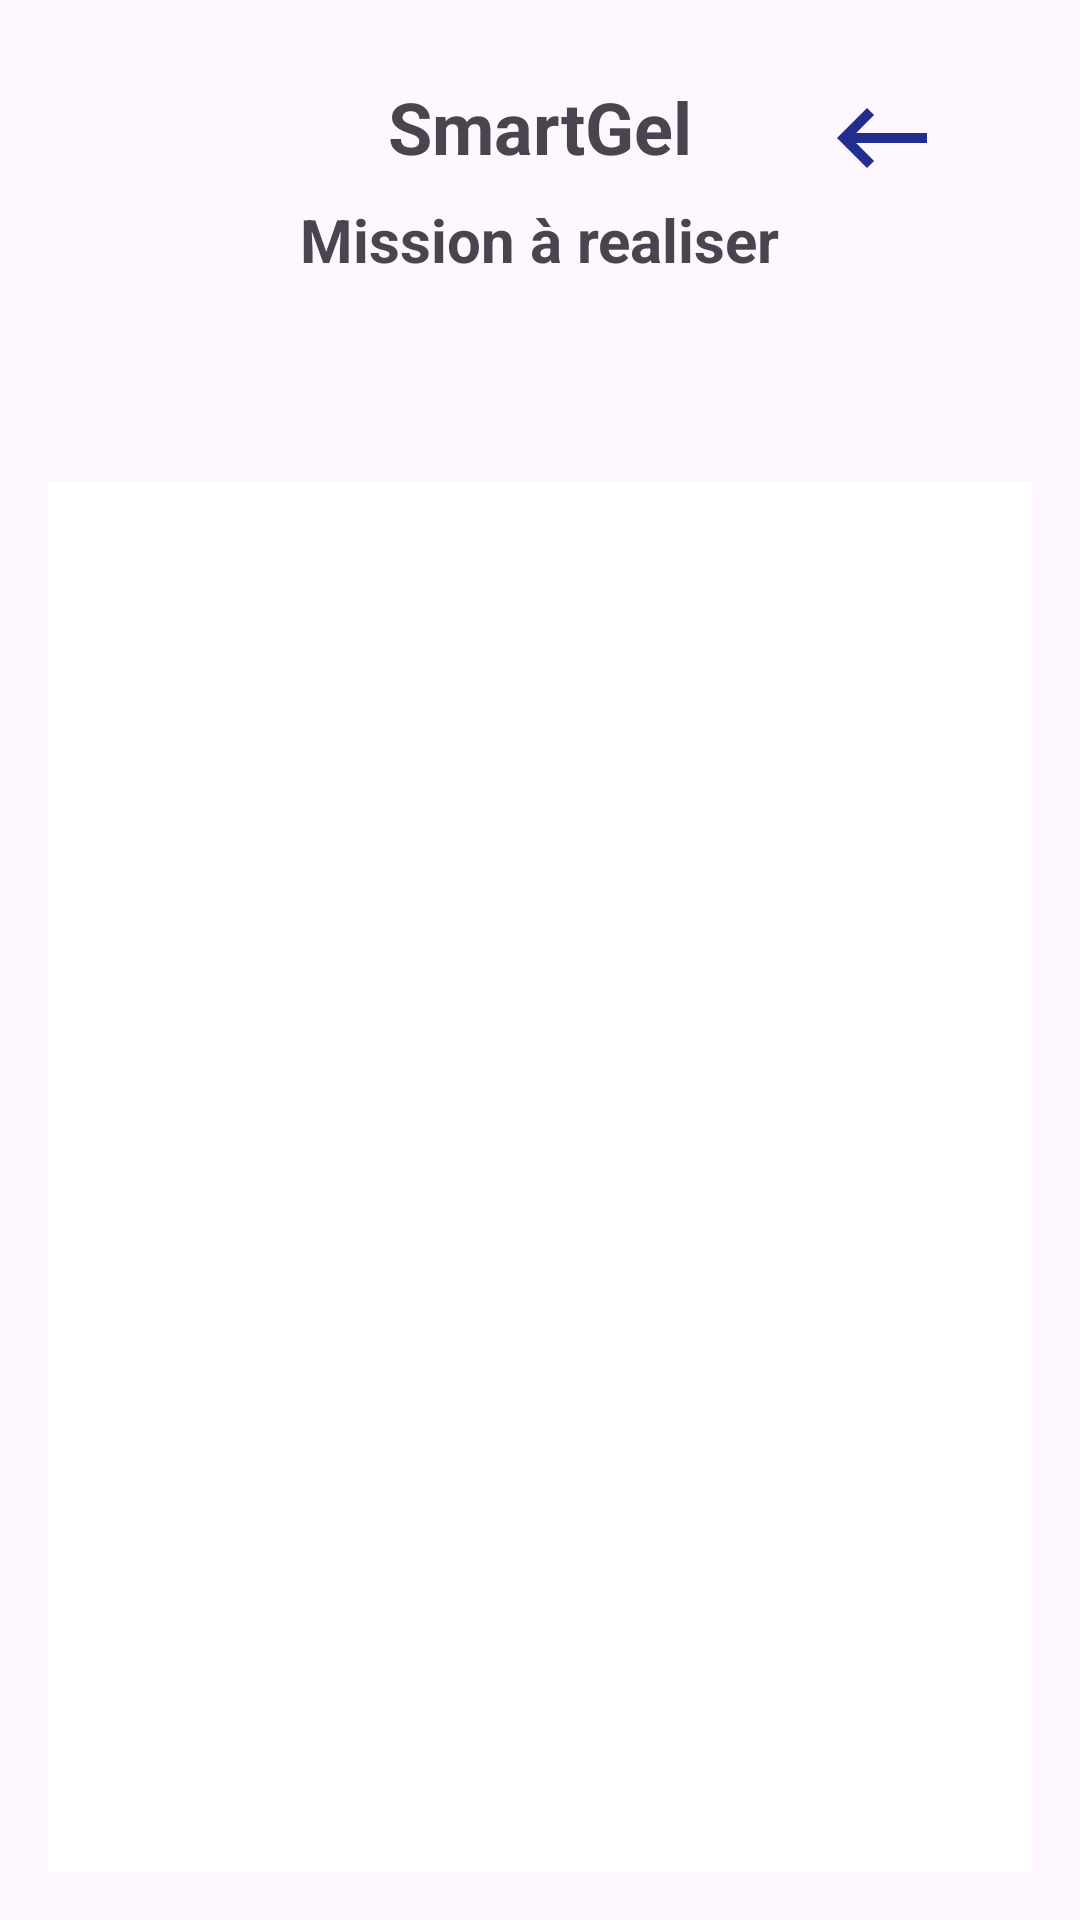

Named icons in this screenshot (1080 × 1920) and their centers, (x=x, y=y):
back: (x=882, y=138)
